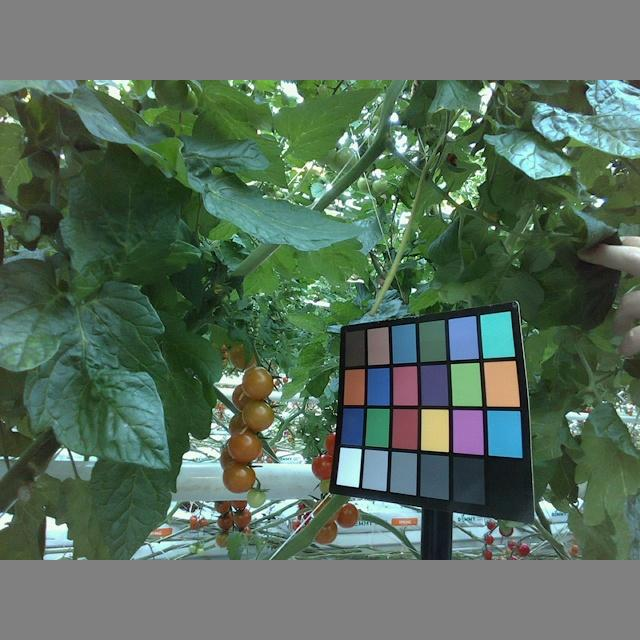pink: (225, 429, 263, 462), (240, 364, 273, 399), (221, 460, 257, 492), (239, 399, 274, 430), (314, 520, 343, 544), (337, 500, 358, 528)
red: (312, 452, 335, 481)
